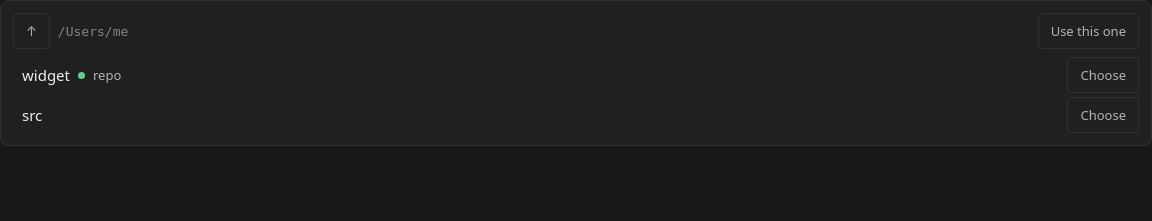
Test: a directory that cannot be read leaves you where you were
Click the button "src": (32, 115) [13,100,1060,130]
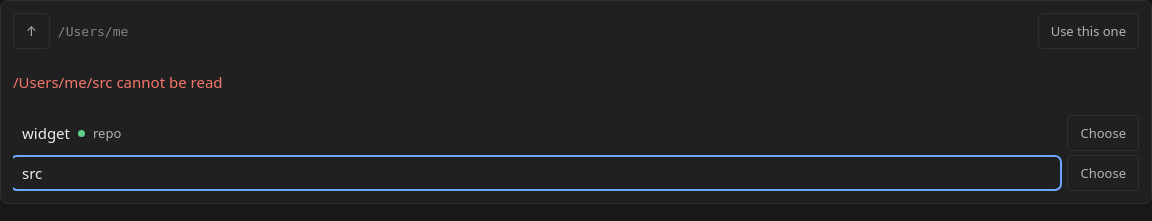
Expected: the text "/Users/me" is shown, [58,24,128,38]
Expected: the text "/Users/me/src cannot be read" is shown, [13,72,222,92]
